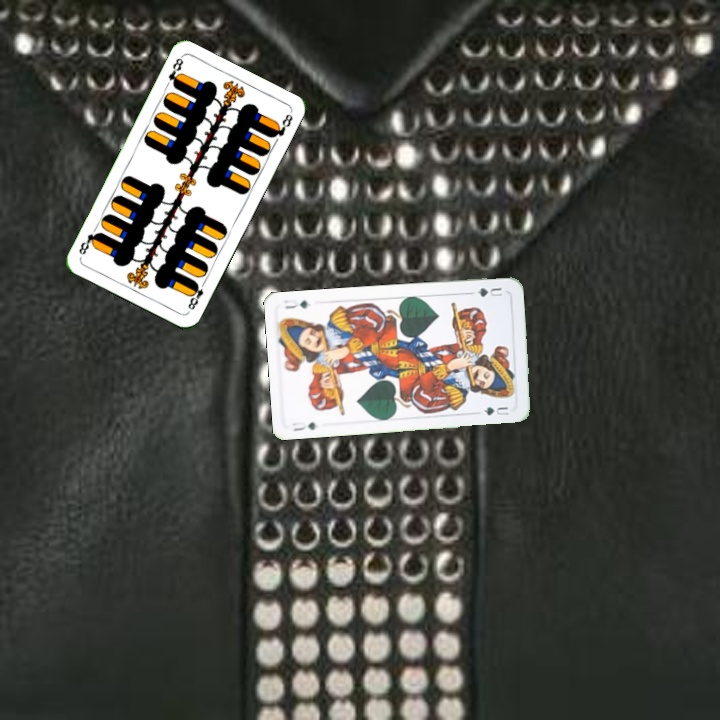E8: (184, 277, 209, 312), (164, 53, 186, 91)
GU: (467, 283, 505, 300), (288, 418, 319, 433)
